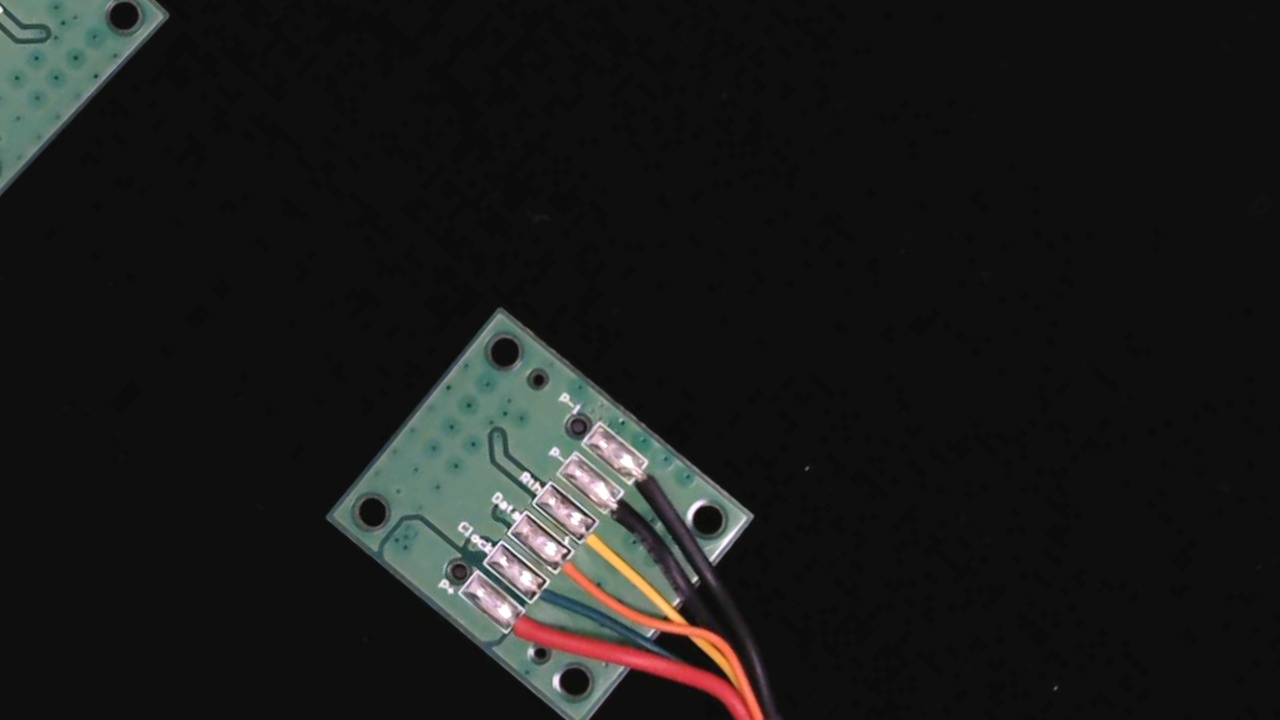Black: (592, 480, 664, 549)
Black1: (618, 454, 681, 513)
Green: (516, 565, 592, 637)
Orange: (541, 536, 617, 608)
Red: (493, 596, 568, 668)
Yellow: (566, 510, 638, 577)
